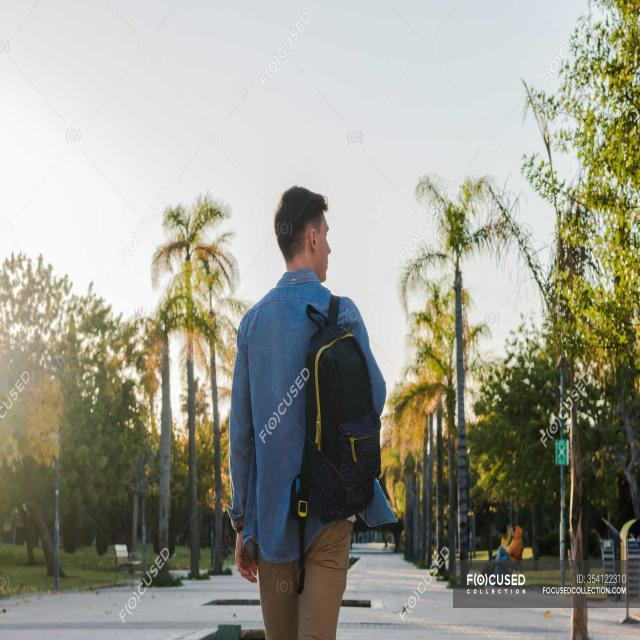Backpacks: (294, 304, 384, 526)
